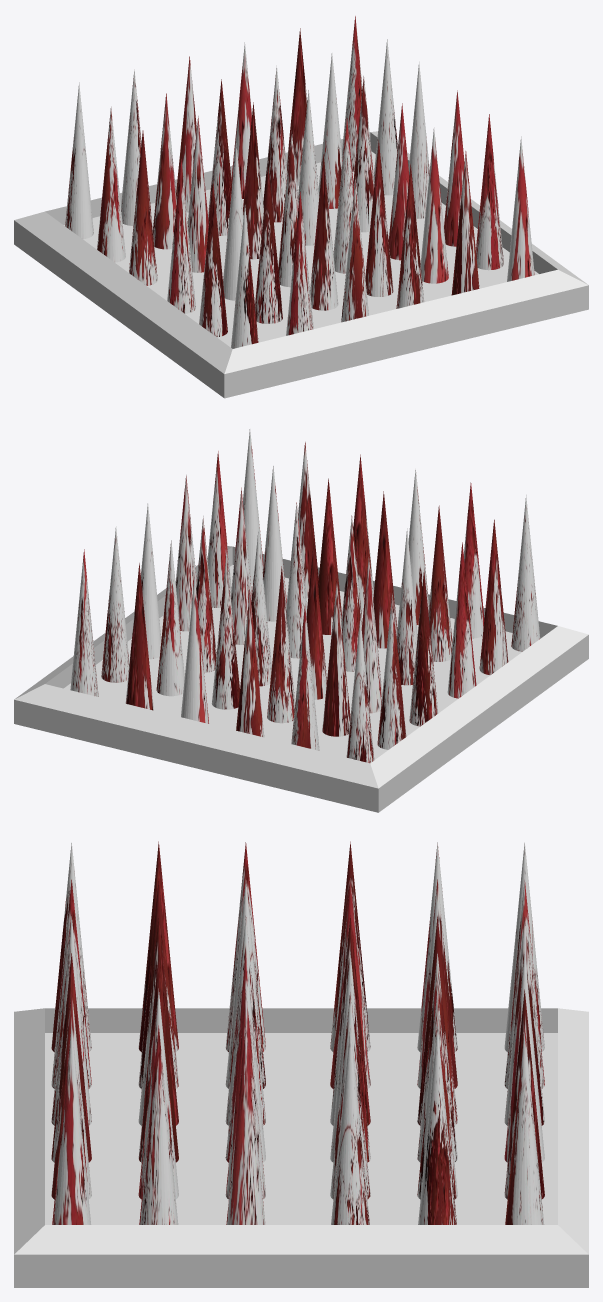
Rendered from bac 1.1.fbx.
3 views of the same model, one above another, from view 1: azimuth 30°, elevation 25°; view 2: azimuth 150°, elevation 25°; view 3: azimuth 270°, elevation 25° (orthographic). The views are drawn at different scales.
Parts seen in each view (by area): view 1: Cone, Cube; view 2: Cone, Cube; view 3: Cube, Cone.
Boxes of the visible parts, x1,y1,x2,y2 form: Cone: (65, 16, 534, 348); Cube: (14, 131, 588, 398); Cone: (70, 429, 540, 763); Cube: (14, 546, 588, 812); Cube: (14, 1008, 588, 1287); Cone: (51, 841, 544, 1224).
Size of the model in its own units: 330 by 147 by 330.
2 materials, 1 textured.
